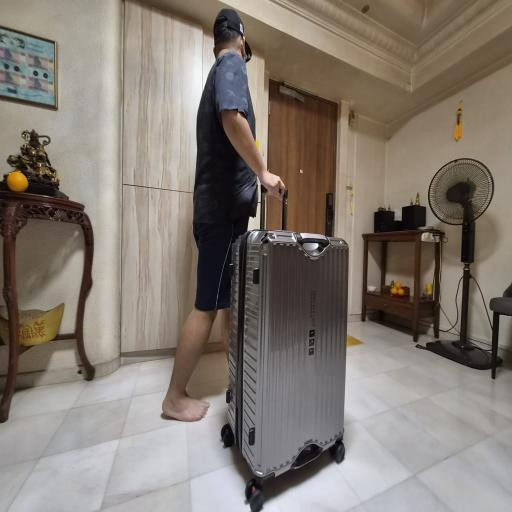person_right: (168, 20, 348, 506)
